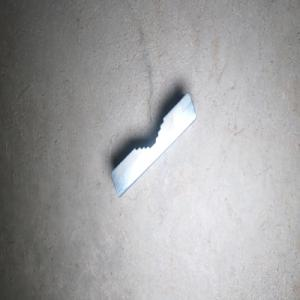ClampPart: (110, 91, 197, 198)
